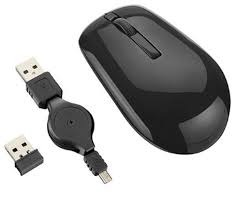mouse: (74, 4, 232, 160)
